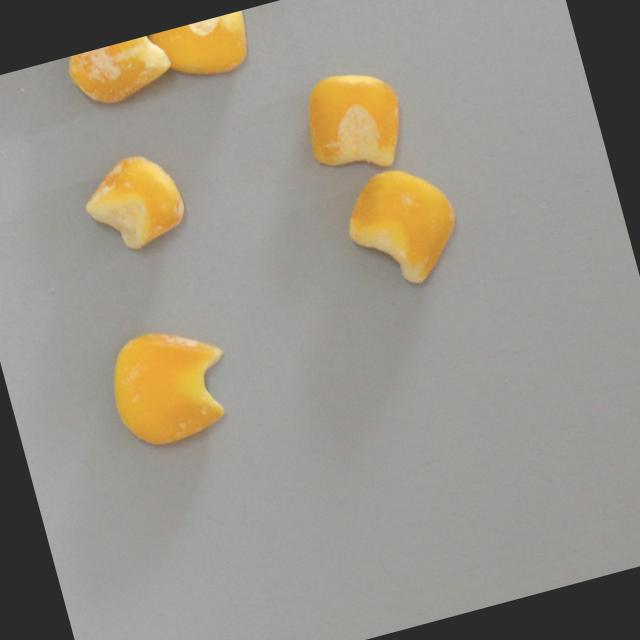no_canjicado: (333, 155, 471, 300), (145, 9, 260, 92)
no_desgerminado: (294, 62, 411, 178)
pelicula: (99, 313, 242, 456), (75, 145, 192, 260), (63, 28, 187, 113)
